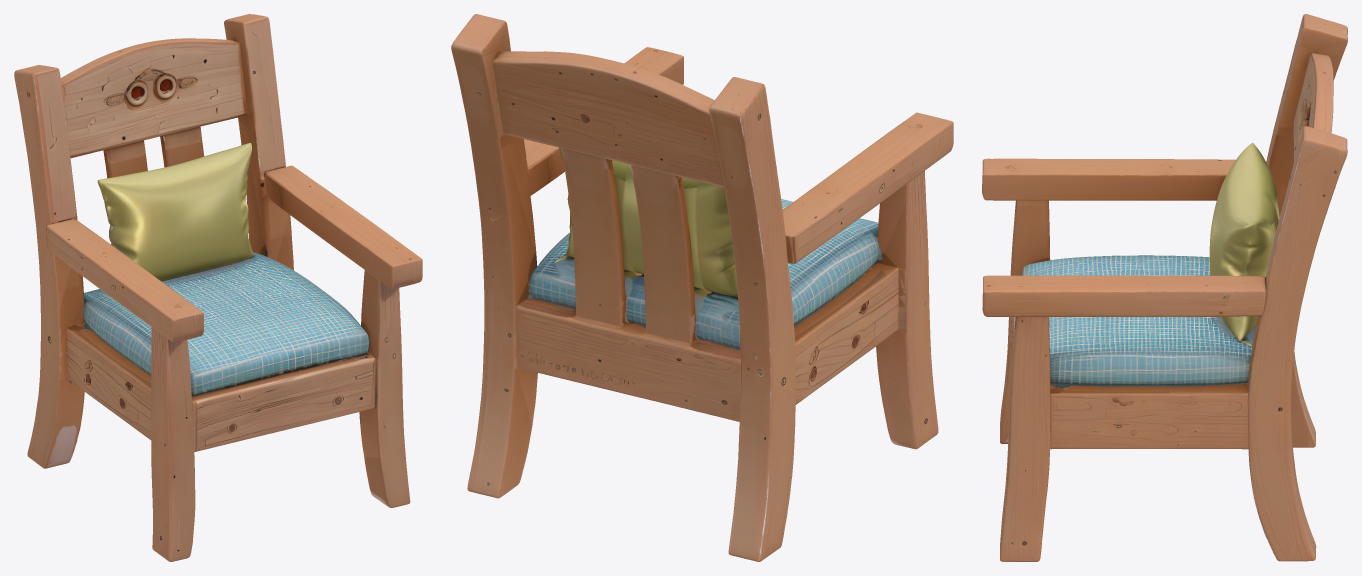
File: base_basic_shaded.glb
3 views of the same model, side by side, from view 1: azimuth 30°, elevation 25°; view 2: azimuth 150°, elevation 25°; view 3: azimuth 270°, elevation 25° (orthographic). The views are drawn at different scales.
Parts seen in each view (by area): view 1: model; view 2: model; view 3: model.
Boxes of the visible parts, left/top/right/bottom form: model: left=14, top=14, right=422, bottom=561; model: left=451, top=14, right=953, bottom=561; model: left=982, top=14, right=1347, bottom=561.
Size of the model in its own units: 1.21 by 1.78 by 1.4.
Materials: 1 (1 with a texture image).
